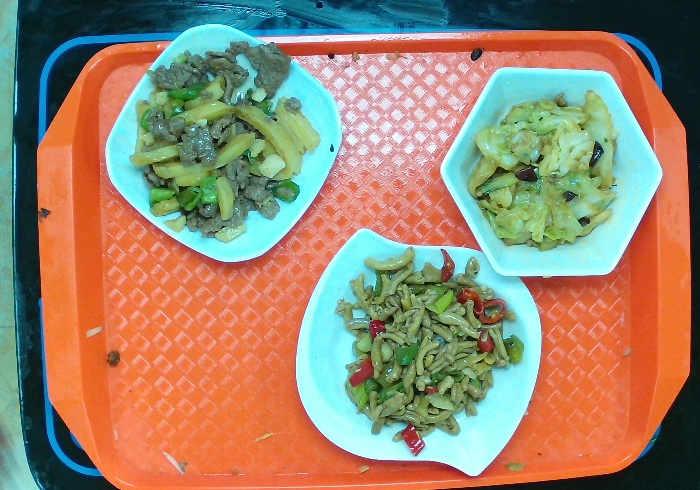RJxy-Liu_Jiao_Wan: (443, 61, 666, 282)
RJxy-Shuang_Jiao_Pan: (291, 223, 545, 476)
RJxy-Si_Fang_Wan: (97, 20, 345, 267)
